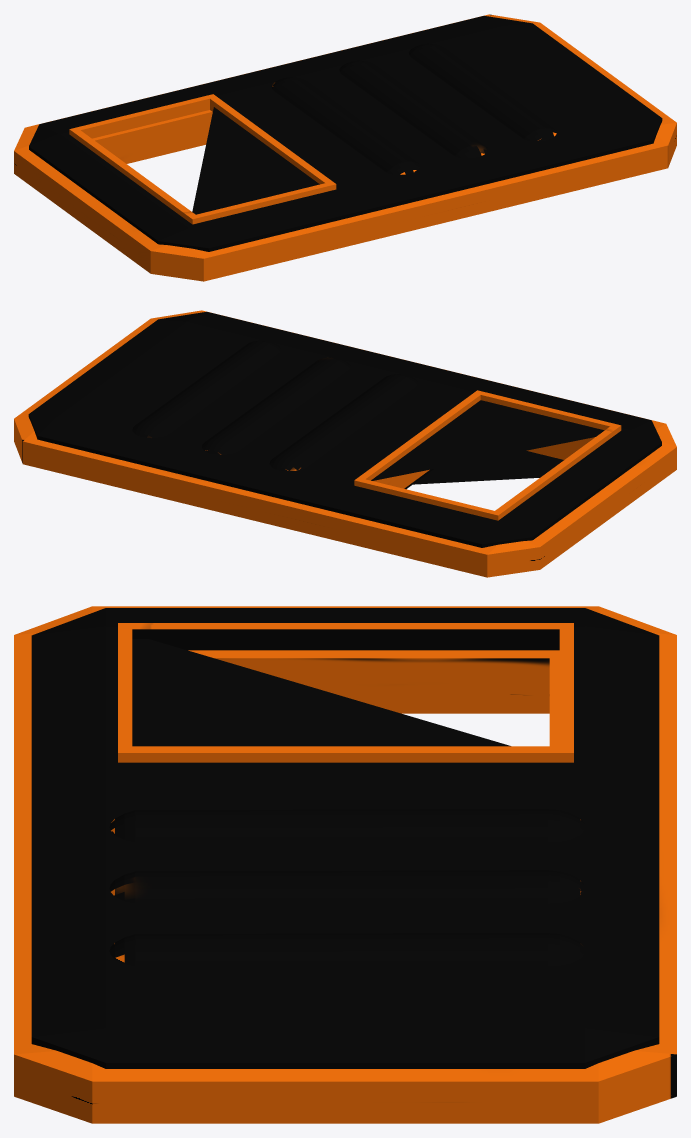
File: Shield.fbx
3 views of the same model, one above another, from view 1: azimuth 30°, elevation 25°; view 2: azimuth 150°, elevation 25°; view 3: azimuth 270°, elevation 25° (orthographic). The views are drawn at different scales.
Visible parts, largest first — view 1: Cube; view 2: Cube; view 3: Cube.
Part boxes in pixels (x1,y1,x2,y2): Cube: (14,14,676,281); Cube: (14,310,676,577); Cube: (14,606,676,1123).
Size of the model in its own units: 406 by 41.06 by 240.
